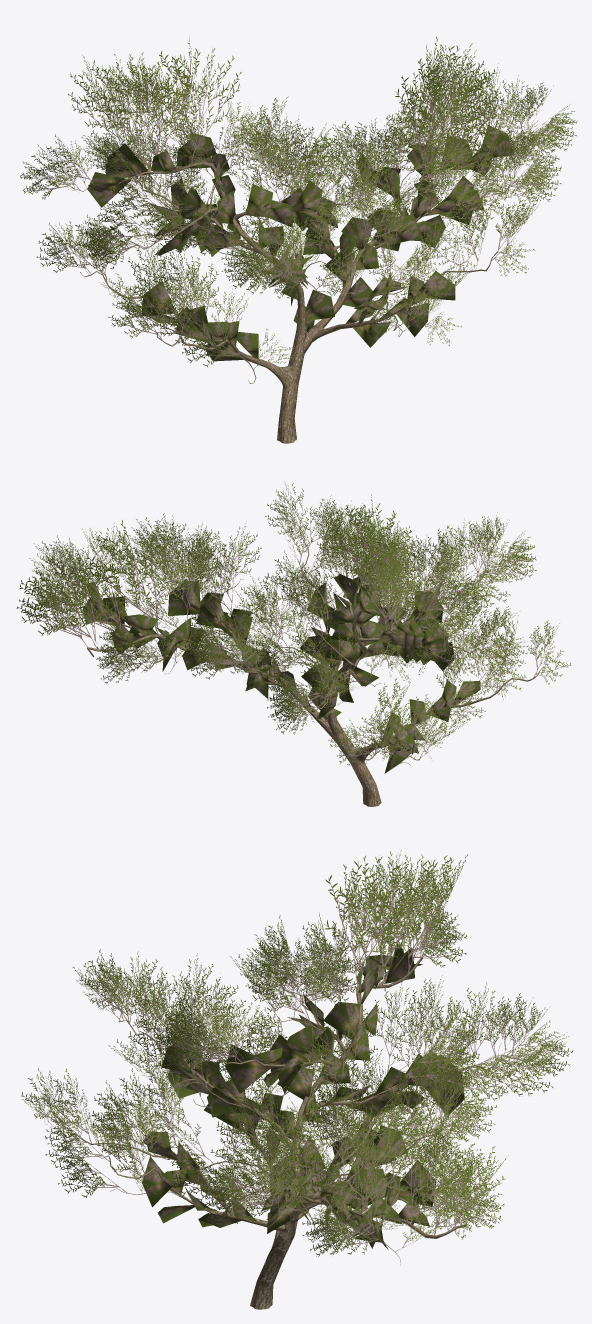
The model's file is acacia.fbx.
3 views of the same model, one above another, from view 1: azimuth 30°, elevation 25°; view 2: azimuth 150°, elevation 25°; view 3: azimuth 270°, elevation 25° (orthographic). The views are drawn at different scales.
Visible parts, largest first — view 1: Tree_1, Tree_2, acacia; view 2: Tree_1, Tree_2, acacia; view 3: Tree_1, Tree_2, acacia.
Boxes of the visible parts, x1,y1,x2,y2 form: Tree_1: (20, 36, 577, 369); Tree_2: (87, 125, 513, 361); acacia: (75, 115, 527, 443); Tree_1: (16, 481, 571, 765); Tree_2: (83, 573, 480, 773); acacia: (69, 533, 542, 806); Tree_1: (21, 850, 573, 1256); Tree_2: (142, 944, 464, 1249); acacia: (63, 919, 509, 1309).
Size of the model in its own units: 985 by 708 by 813.
